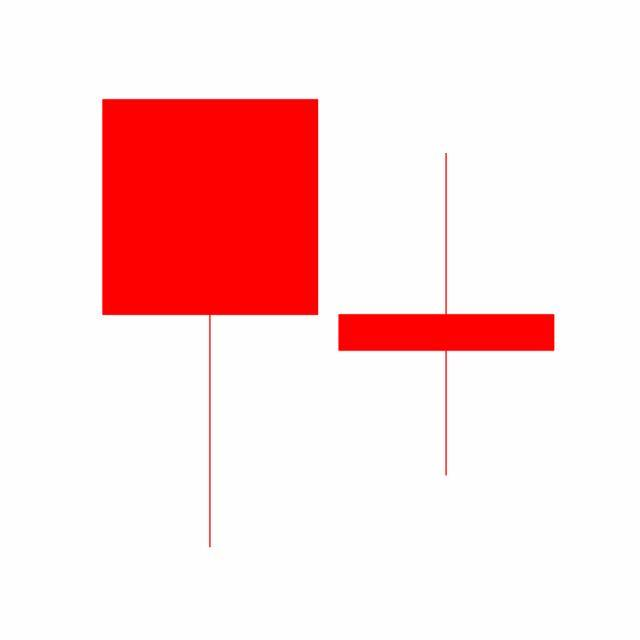Spinning Top: (328, 150, 566, 480)
